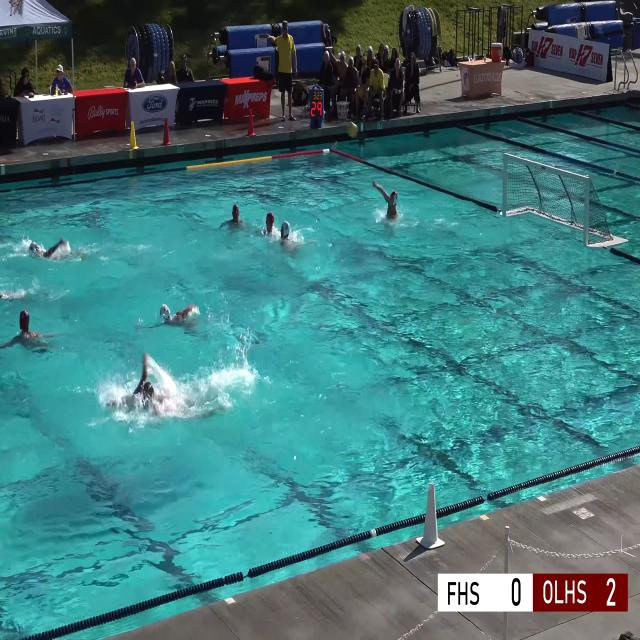ball: (347, 121, 358, 138)
